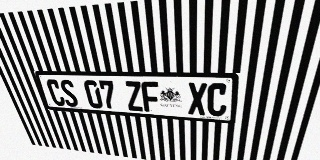0: (83, 80, 103, 109)
7: (97, 80, 118, 110)
C: (207, 83, 228, 117), (45, 79, 66, 106)
F: (141, 81, 160, 112)
S: (58, 79, 79, 107)
X: (188, 82, 207, 115)
Z: (124, 81, 144, 111)
